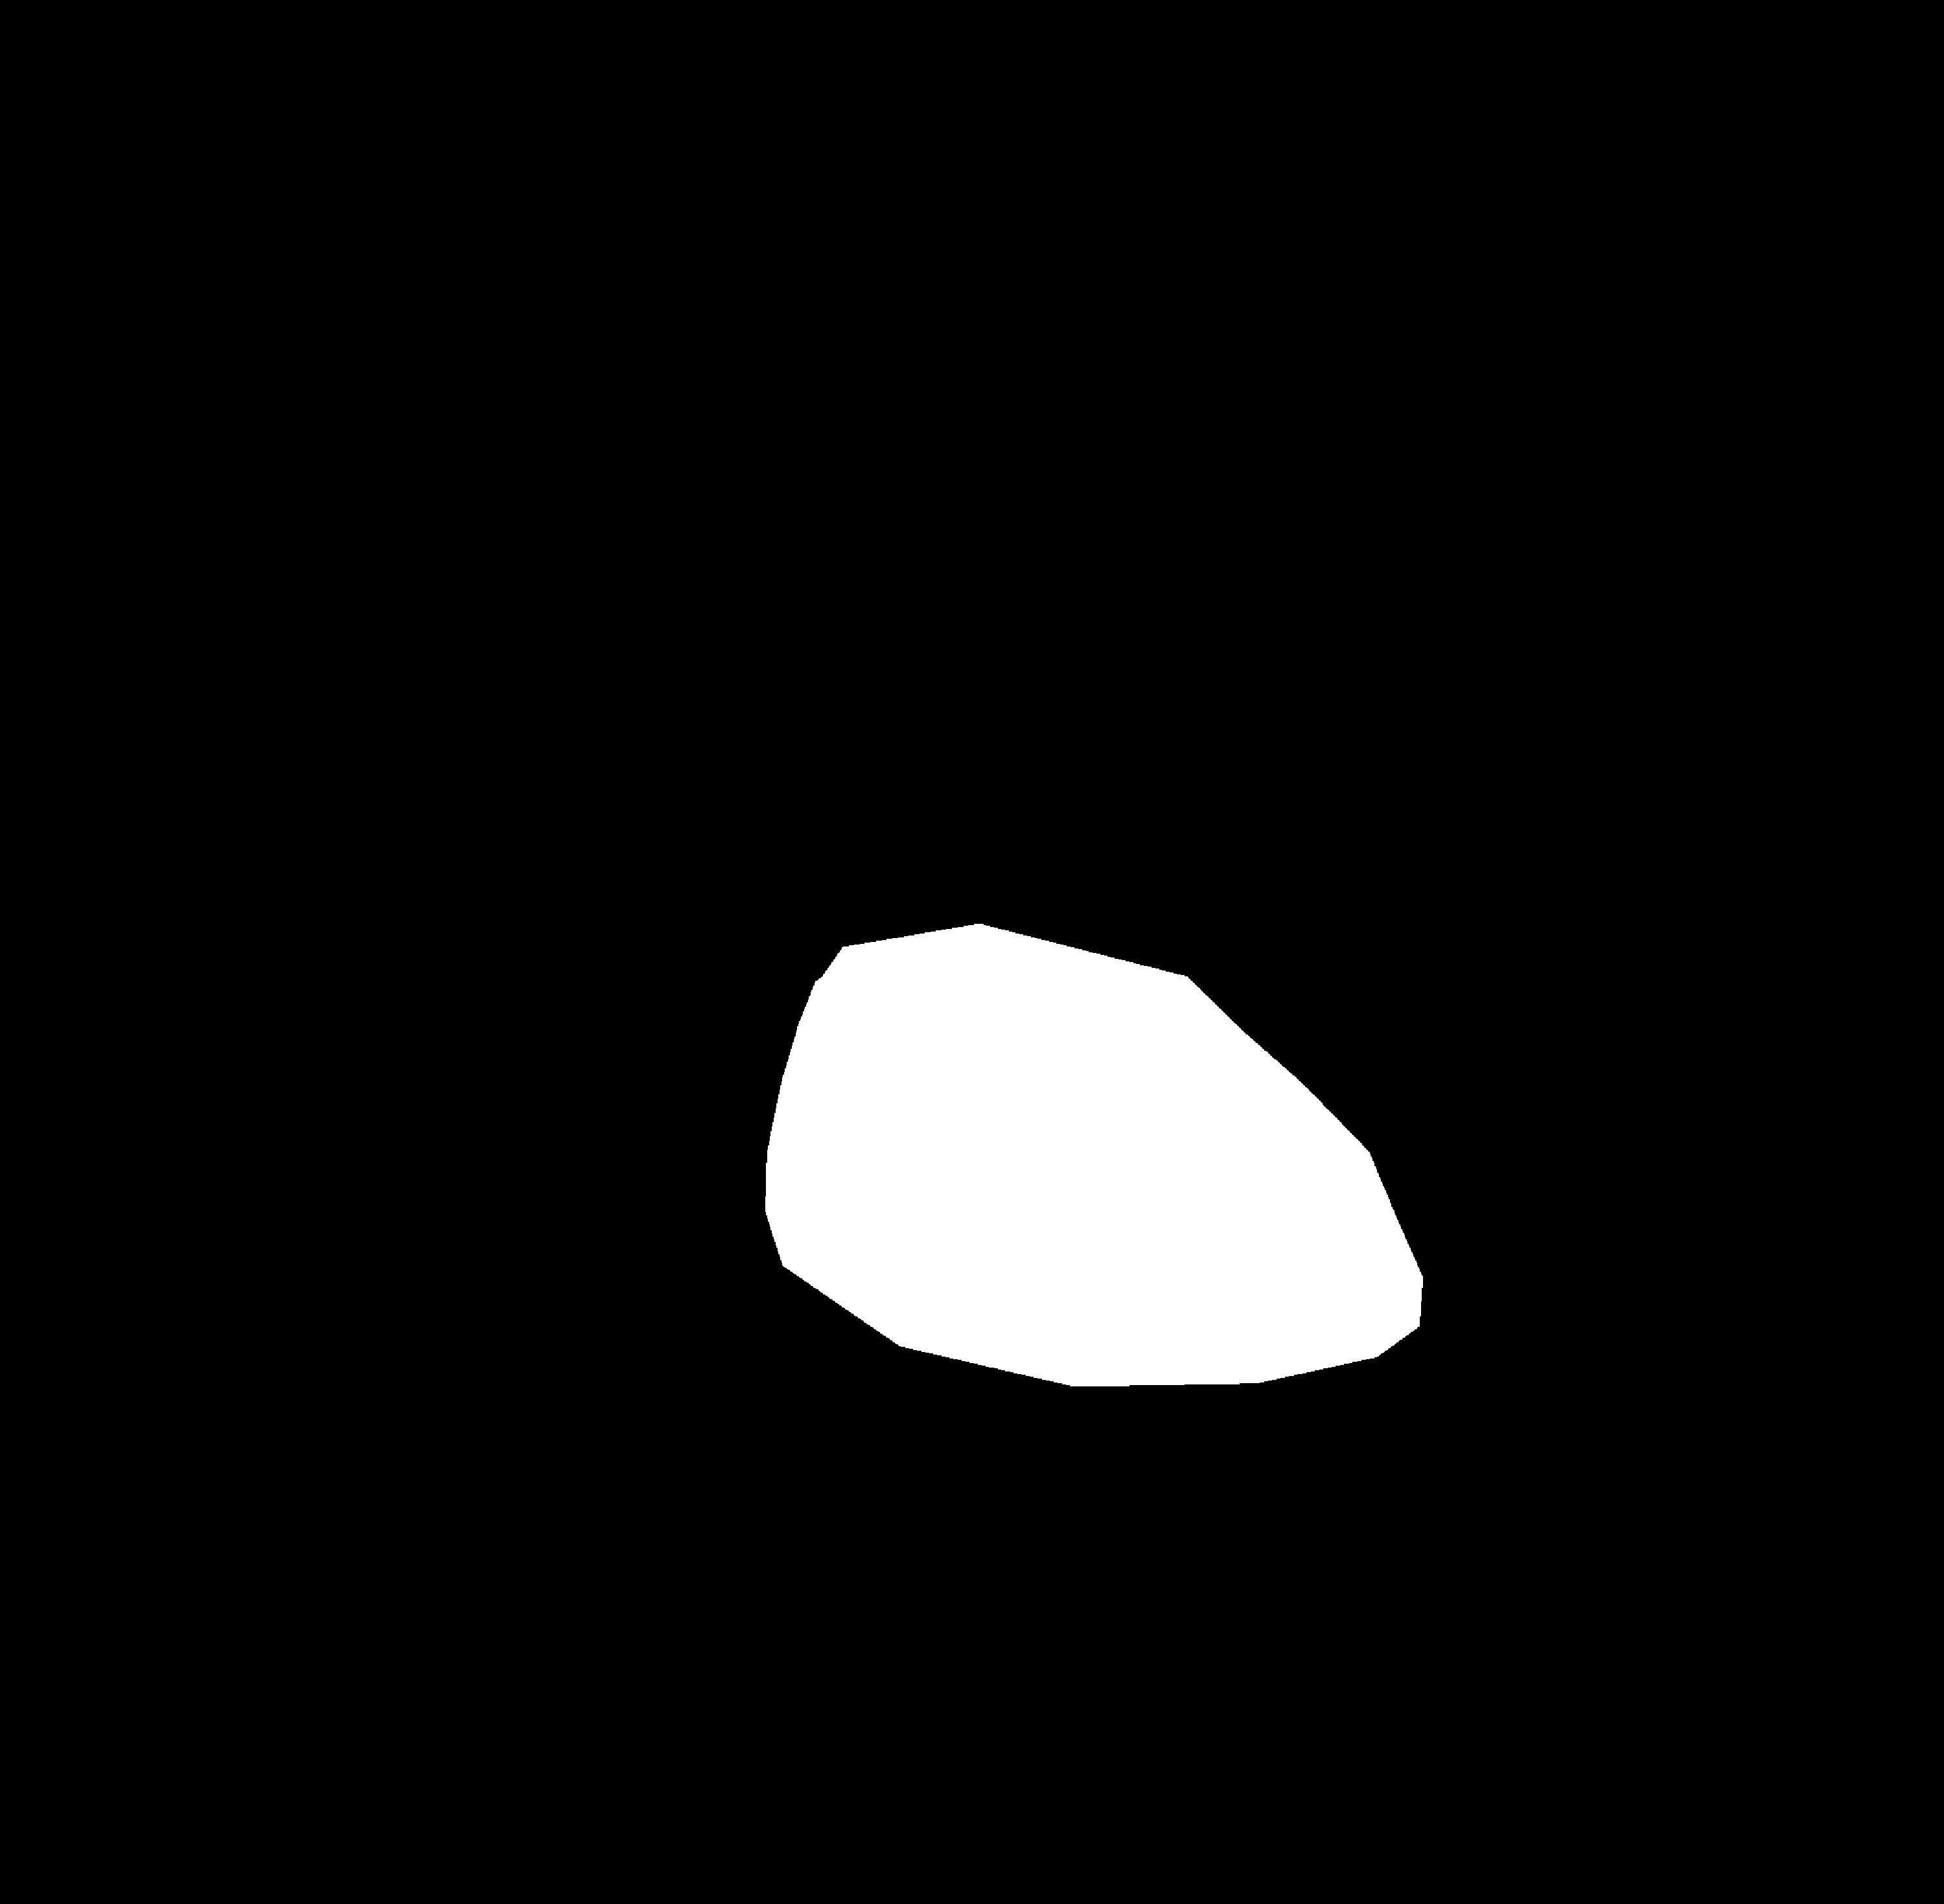heart: (769, 1013, 1424, 1391)
left_lung: (354, 249, 917, 1402)
right_lung: (1058, 216, 1625, 1499)
